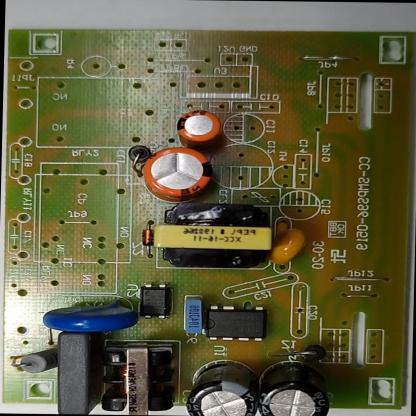Cap1: (129, 145, 220, 204)
Cap2: (168, 106, 232, 151)
Cap3: (179, 355, 266, 416)
Cap4: (250, 350, 340, 416)
MOSFET: (196, 302, 275, 344)
Mov: (35, 296, 147, 338)
Resistor: (6, 342, 58, 379)
Transformer: (149, 200, 281, 272), (96, 335, 176, 415)
